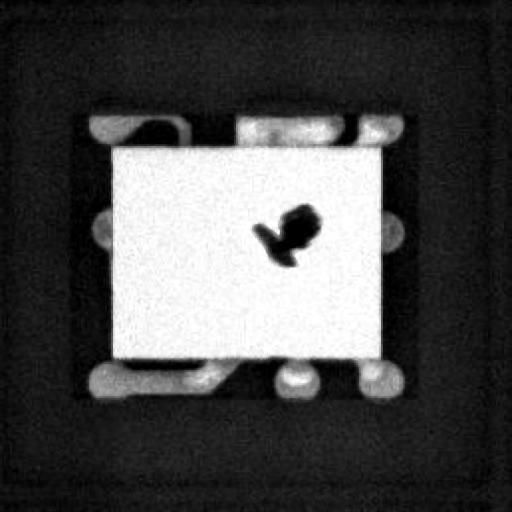DIE_INK: (237, 208, 305, 278)
